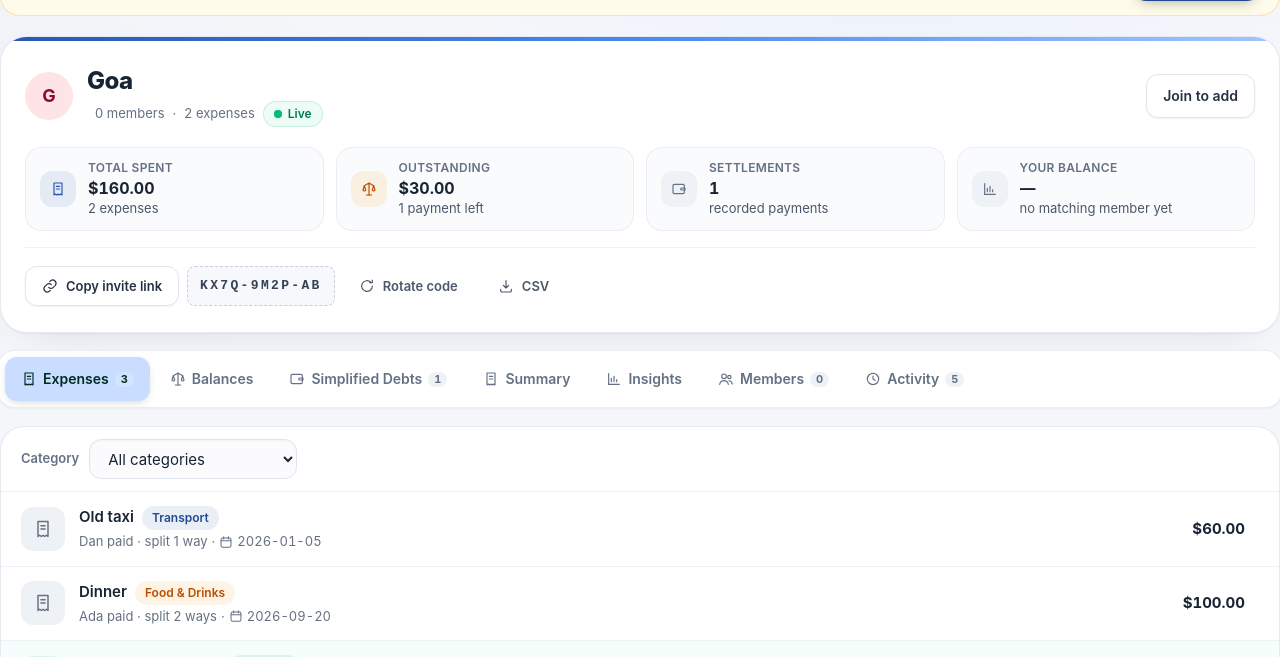
GroupPage edge paths › renders relative times across ranges
The width and height of the screenshot is (1280, 657).
What coordinates should you click on to do the following:
click the tab "Activity 5"
I would click on:
 (915, 380)
Its box is [849,358,980,402].
(page scrolled)
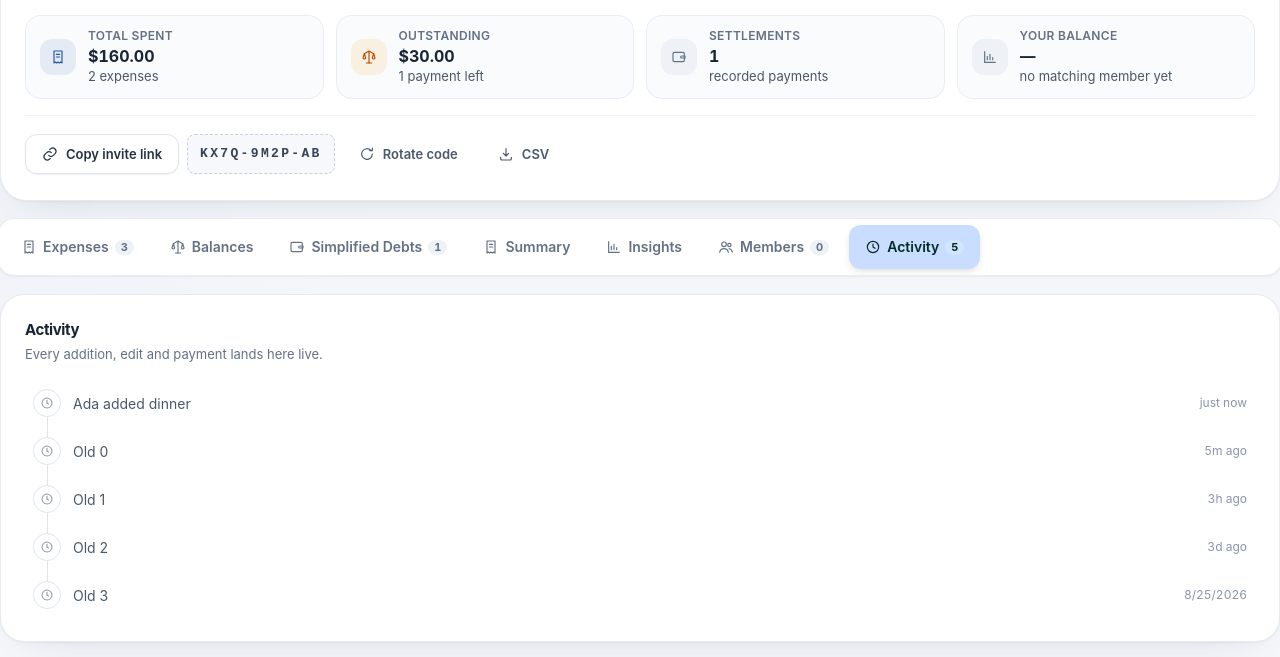
Expected: the text "5m ago" is shown, [1204,437,1247,459]
Expected: the text "3h ago" is shown, [1208,485,1247,507]
Expected: the text "3d ago" is shown, [1207,533,1247,555]
